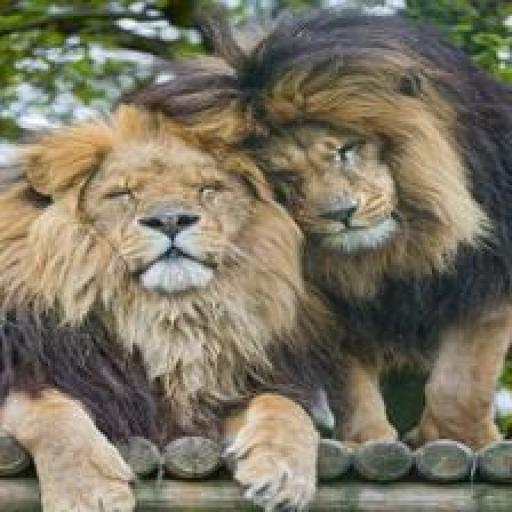lion: (44, 126, 274, 307)
